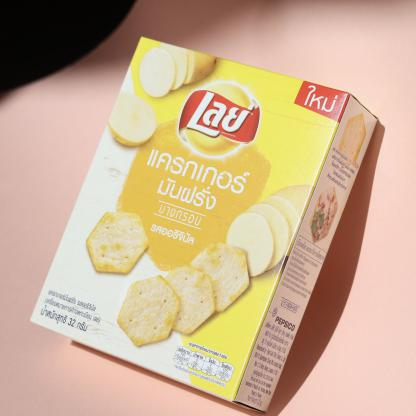potatochip: (30, 35, 382, 414)
